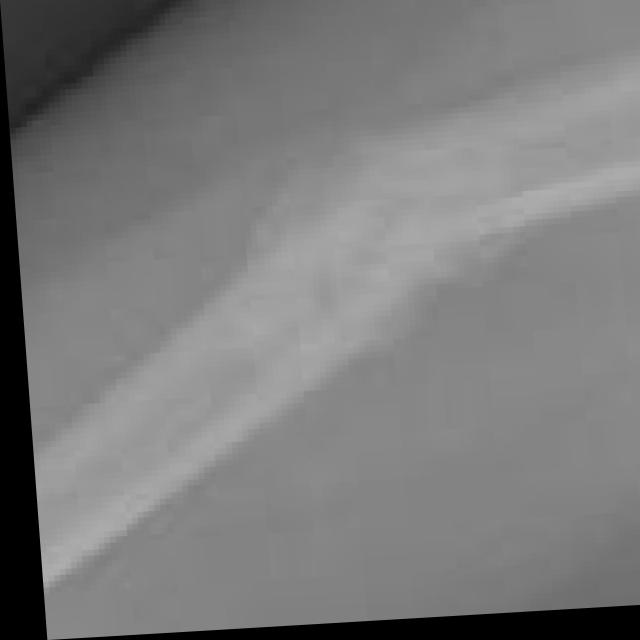fracture: (12, 0, 640, 633)
